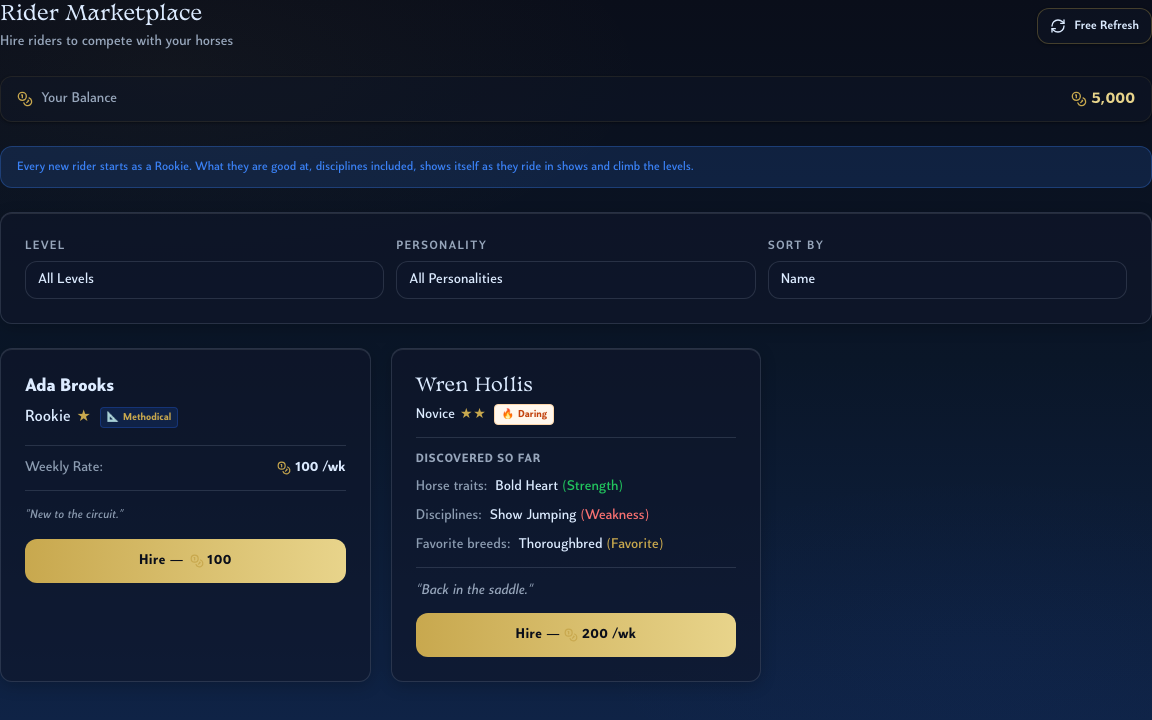
Test: riders back for hire, in the rider hire list (Equoria-266h7, q284) › a rider hired away first says so on the card and the list is fetched again
Click the button with test id "returning-rider-41-hire" at (576, 635), box [416,613,736,657]
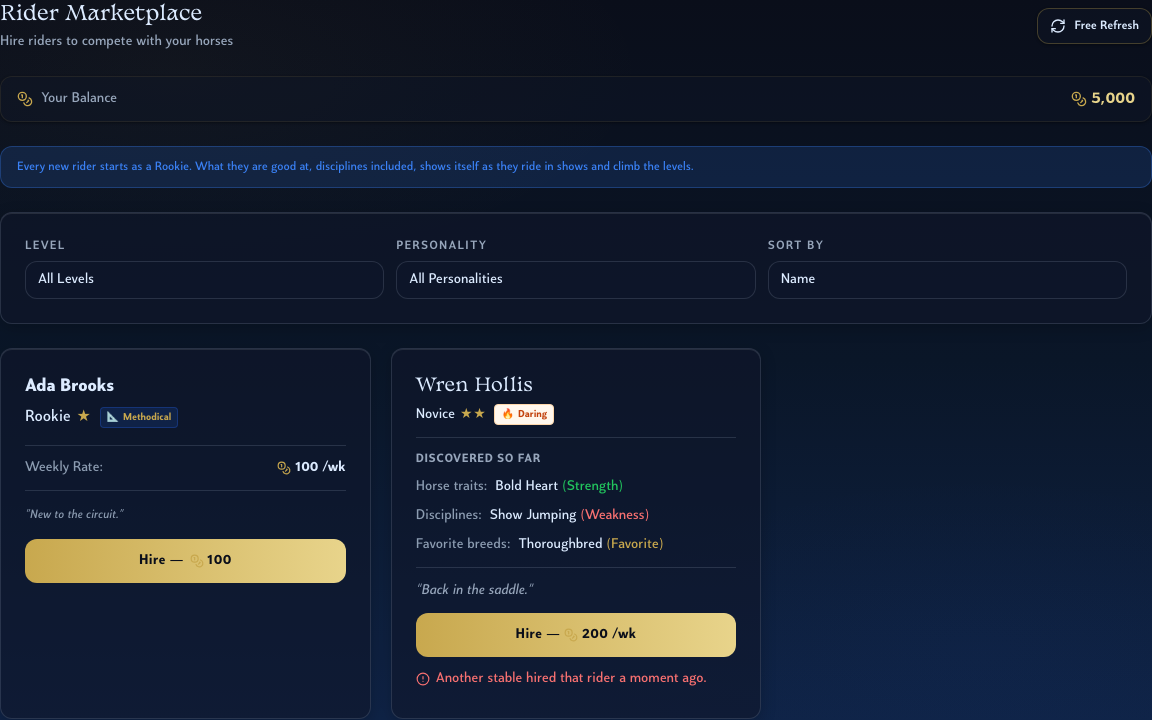
expect the message reads "Another stable hired that rider a moment ago.": met, box [436,671,707,686]
